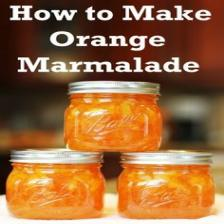orange: (65, 81, 162, 152), (6, 163, 104, 220), (118, 164, 215, 220)
